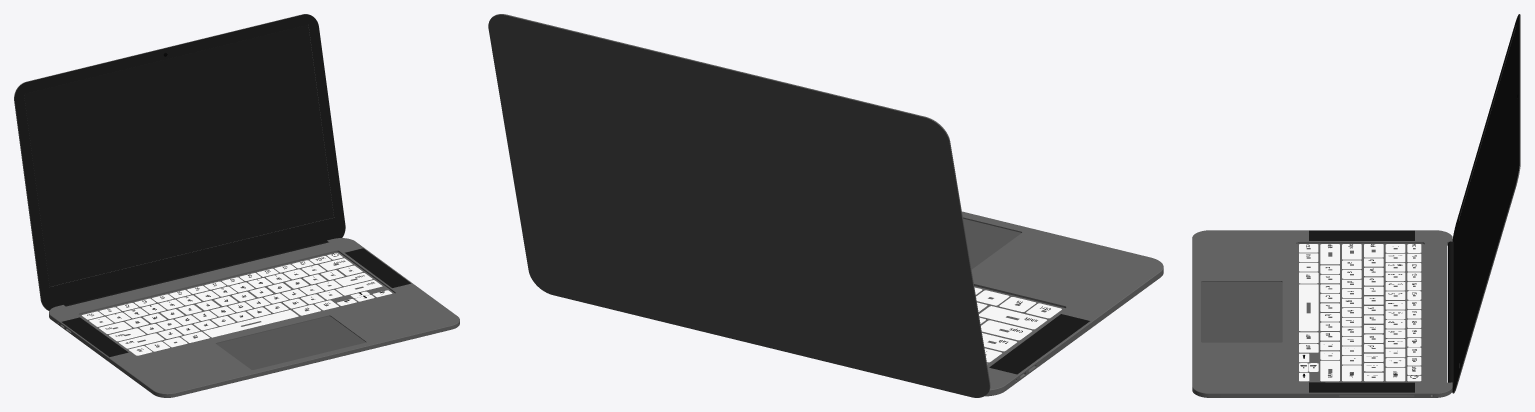
Rendered from laap.glb.
The picture shows the model from 3 angles, left to right: view 1: azimuth 30°, elevation 25°; view 2: azimuth 150°, elevation 25°; view 3: azimuth 270°, elevation 25°; orthographic projection. The views are drawn at different scales.
Parts seen in each view (by area): view 1: monitor, body, keyboard; view 2: monitor, body, keyboard; view 3: body, keyboard, monitor.
Part boxes in pixels (bbox=[...]): monitor: bbox=[14, 14, 345, 310]; body: bbox=[49, 238, 459, 397]; keyboard: bbox=[82, 253, 392, 355]; monitor: bbox=[488, 14, 990, 397]; body: bbox=[962, 211, 1163, 396]; keyboard: bbox=[974, 287, 1061, 362]; body: bbox=[1192, 230, 1452, 397]; keyboard: bbox=[1299, 244, 1421, 381]; monitor: bbox=[1448, 14, 1520, 393].
Bounding box in the file's own units: 4.45 × 2.9 × 3.78.
Materials: 10 (1 with a texture image).
